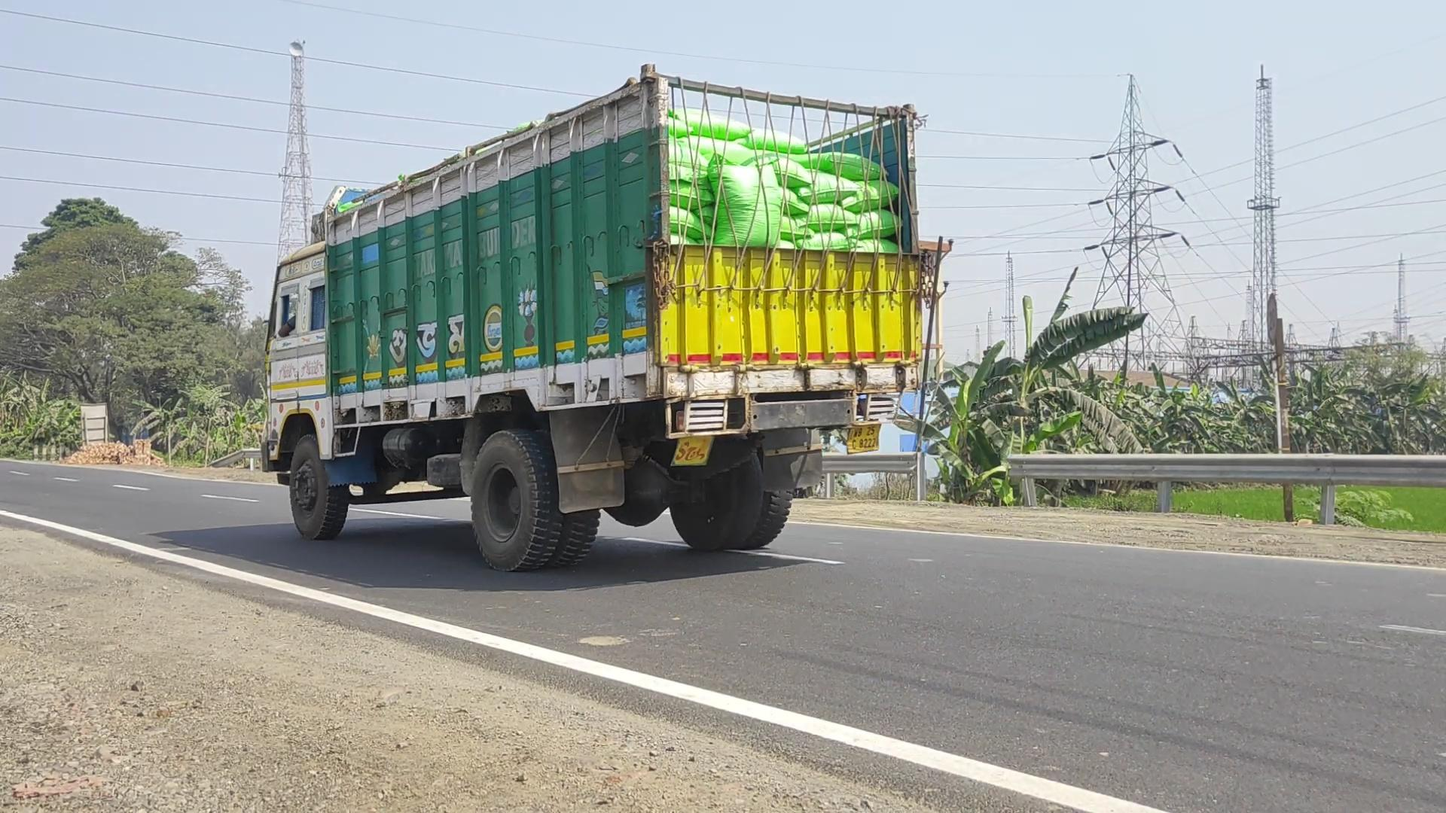truck: (261, 62, 935, 574)
